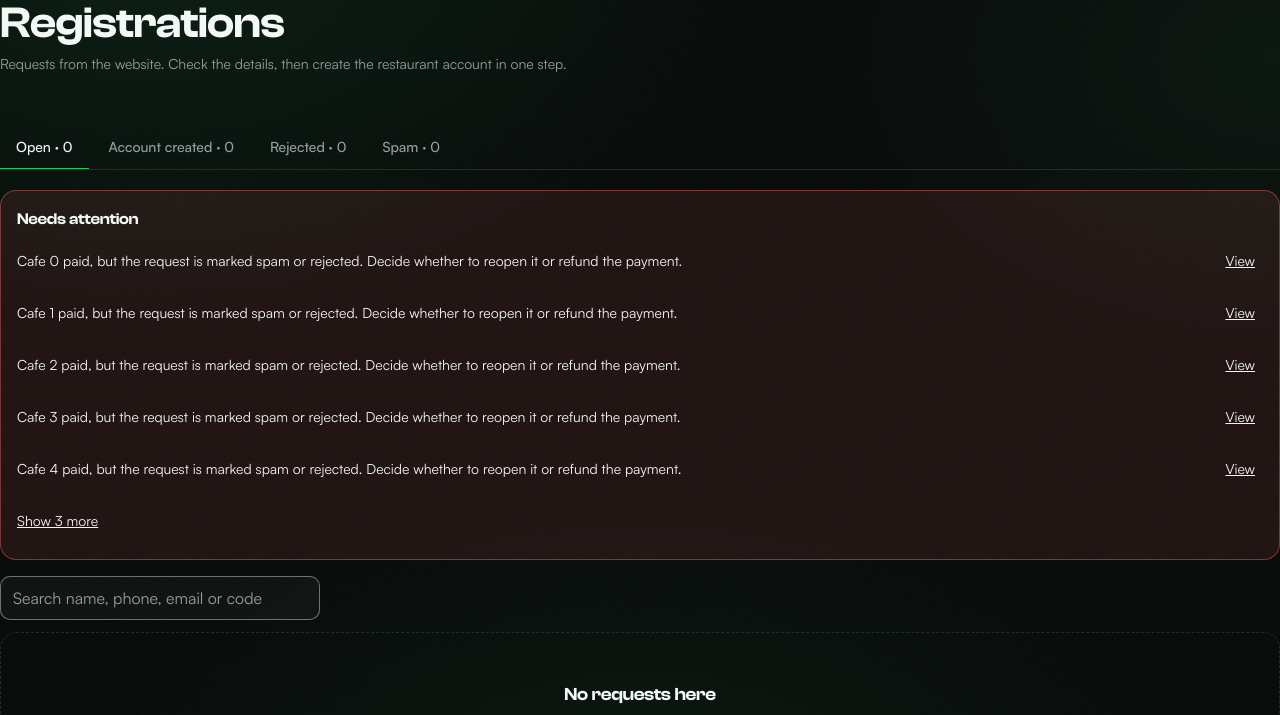
it: Registrations: needs attention › a long attention list shows five rows and a "Show N more" button
Expected: the text "Cafe 0 paid, but" is shown, [17,252,682,269]
Expected: the text "Cafe 7 paid, but" is not shown
Click the button "Show 3 more" at [58, 521], box [17,499,98,543]
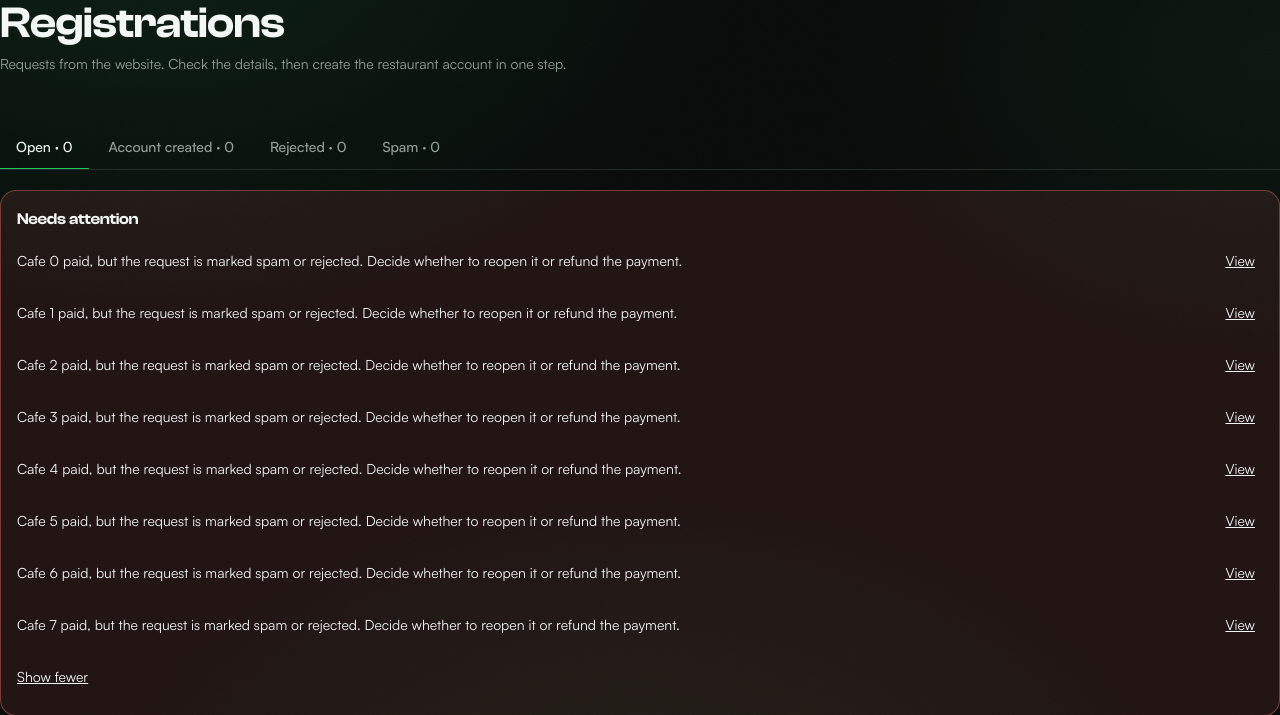
Expected: the text "Cafe 7 paid, but" is shown, [17,616,680,633]
Expected: the button "Show fewer" is shown, [17,655,88,699]
